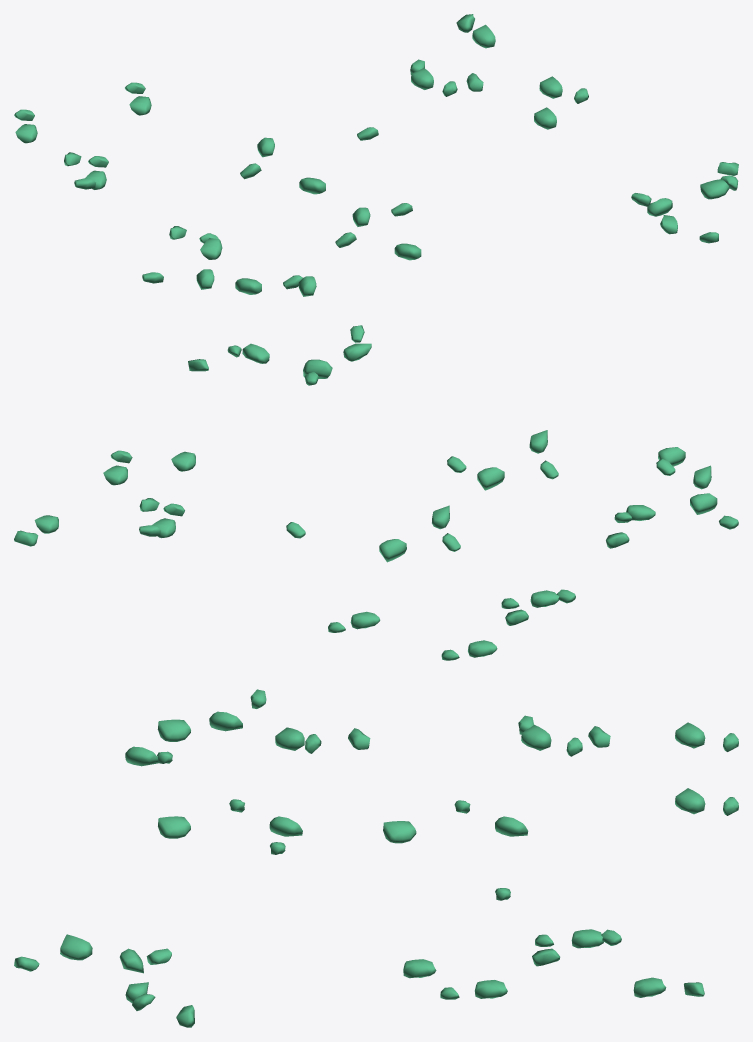
File: Floor_Break_C_03B_Lod0.fbx
3 renders of one model, top to bottom at view 1: azimuth 30°, elevation 25°; view 2: azimuth 150°, elevation 25°; view 3: azimuth 270°, elevation 25°, orthographic. The views are drawn at different scales.
Visible parts, largest first — view 1: Floor_Break_C_03B_Lod0; view 2: Floor_Break_C_03B_Lod0; view 3: Floor_Break_C_03B_Lod0.
Boxes of the visible parts, <box> form: Floor_Break_C_03B_Lod0: <box>14,14,738,296</box>; Floor_Break_C_03B_Lod0: <box>14,325,738,660</box>; Floor_Break_C_03B_Lod0: <box>14,689,738,1027</box>.
Size of the model in its own units: 862 by 37.43 by 810.
